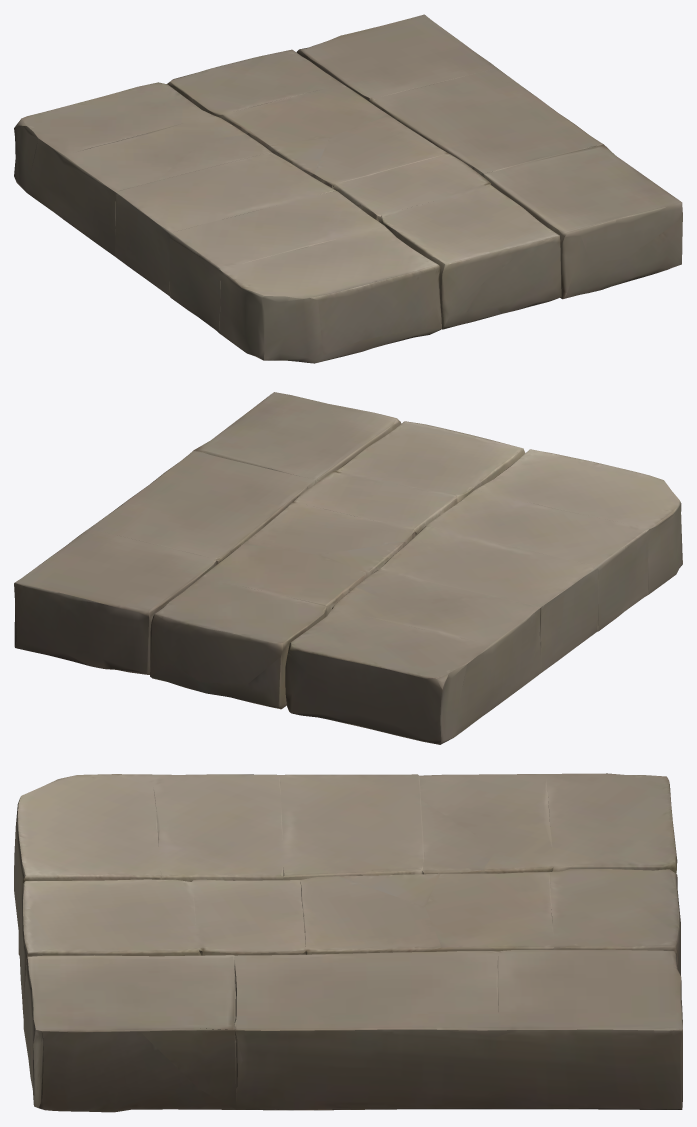
The model's file is m2SurvivalFloorTile.glb.
The picture shows the model from 3 angles, top to bottom: view 1: azimuth 30°, elevation 25°; view 2: azimuth 150°, elevation 25°; view 3: azimuth 270°, elevation 25°; orthographic projection. The views are drawn at different scales.
Visible parts, largest first — view 1: model; view 2: model; view 3: model.
Part boxes in pixels (x1,y1,x2,y2): model: (14, 14, 682, 363); model: (14, 392, 682, 744); model: (14, 773, 682, 1112).
Bounding box in the file's own units: 1.72 × 0.2645 × 1.89.
Materials: 1 (1 with a texture image).
